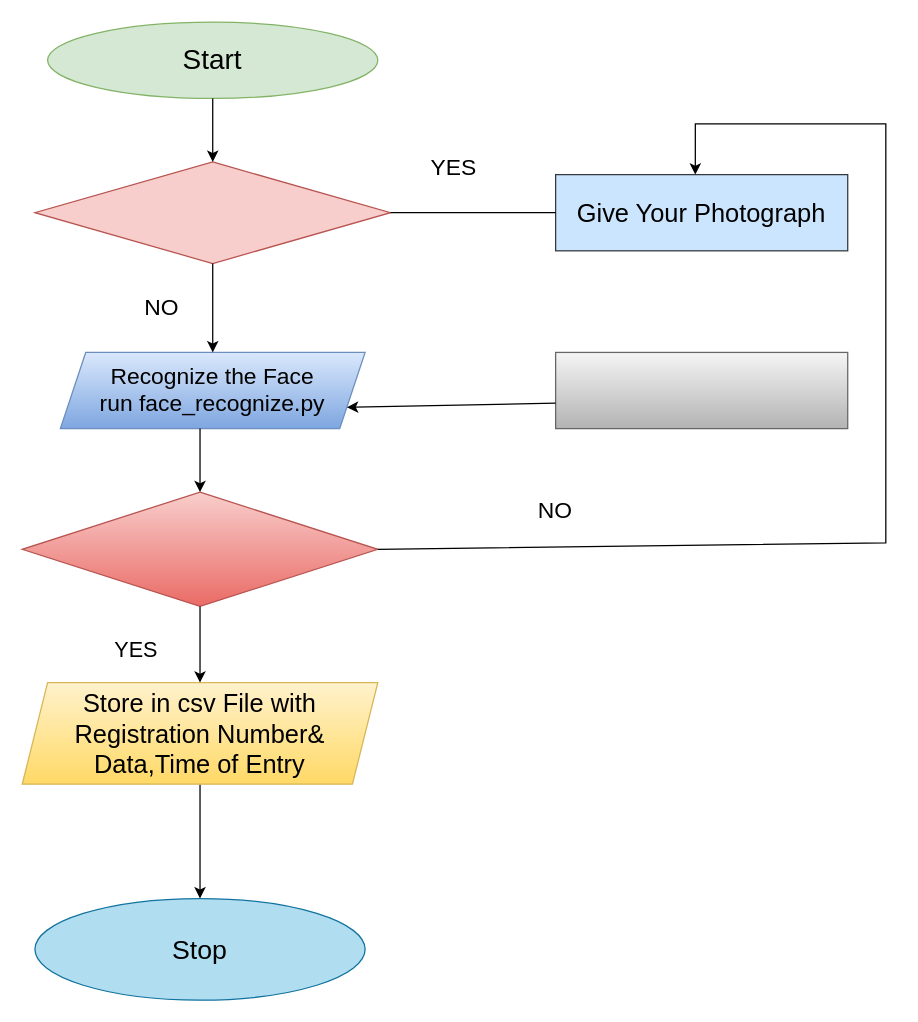
This 918x1022 diagram has some shape labels left out. The shapes that lost their labels are listed below. From the top down, each one's box as (x1, y1, x2, y2) in pixels, then its label:
(34, 161, 391, 264): New User? run create_database.py
(554, 351, 848, 429): Store the face data in folder on your name
(21, 491, 378, 606): Face Recognized
